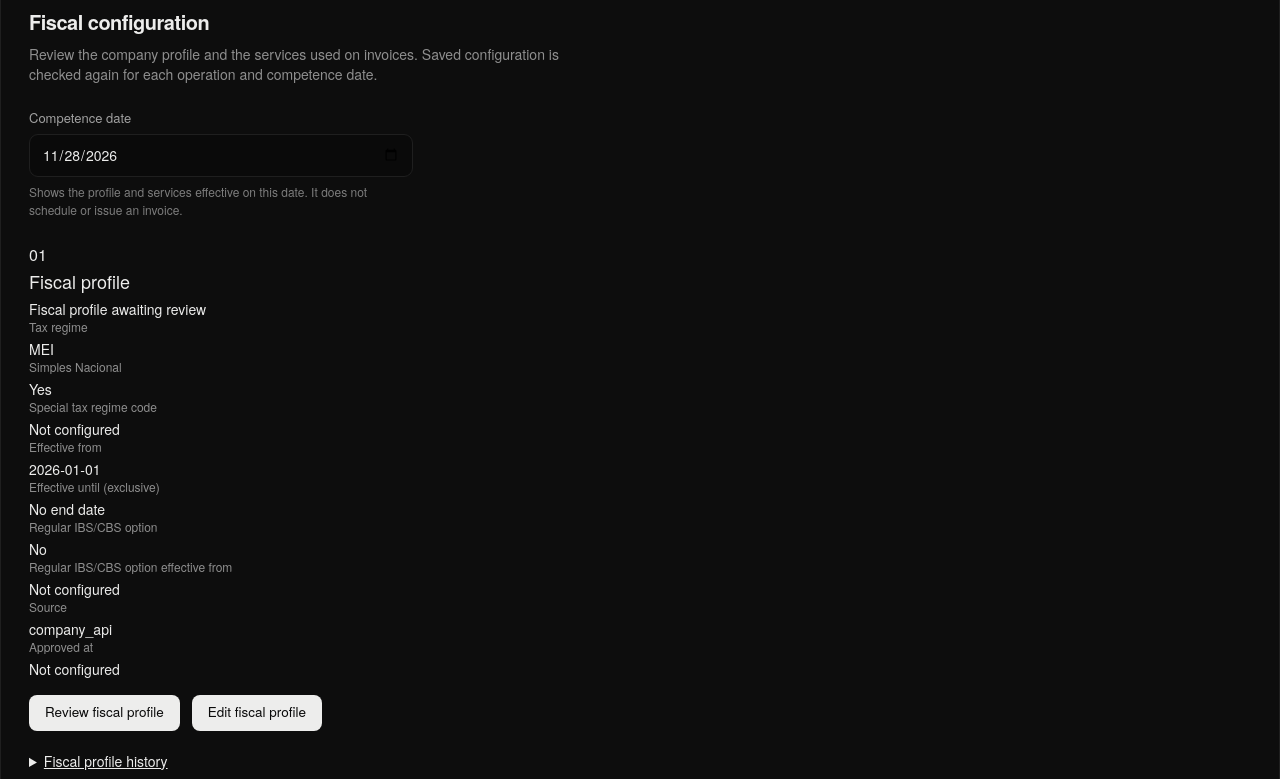
CompanyFiscalSetup › requires an explicit review before approving a saved fiscal profile
This screenshot has width=1280, height=779.
Expected: the text "Fiscal profile awaiting review" is shown, [29,298,206,318]
Click the button "Review fiscal profile" at coordinates (104, 712), box [29,694,180,730]
(page scrolled)
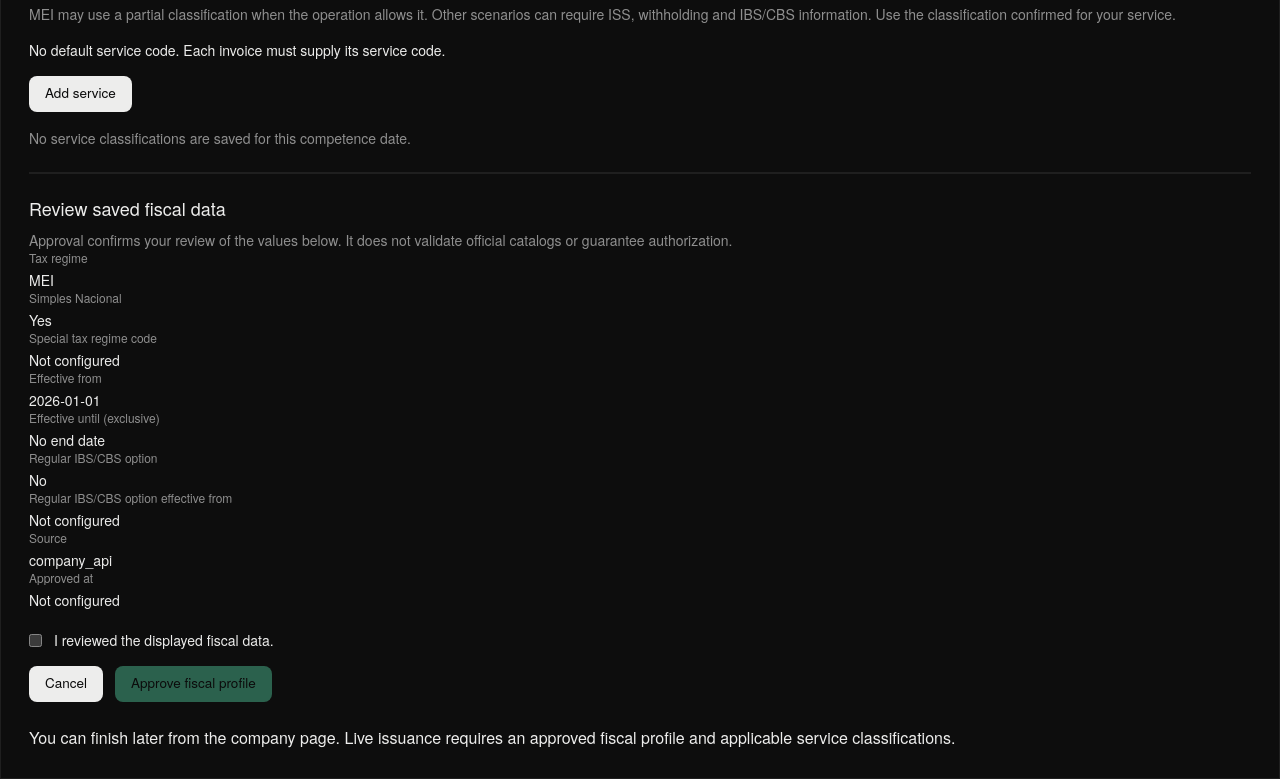
Expected: the button "Approve fiscal profile" is disabled, [115,666,272,702]
Click the checkbox labelled "I reviewed the displayed fiscal data." at coordinates (36, 640), box [29,634,42,646]
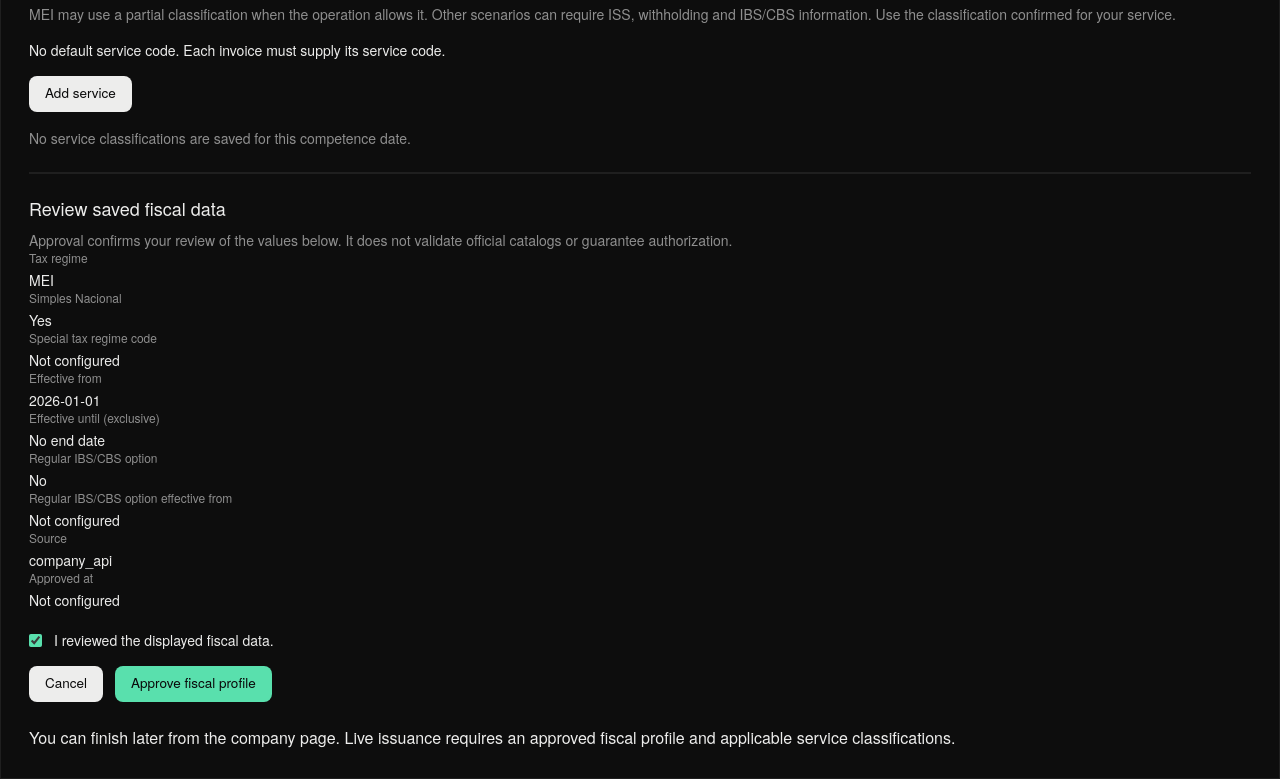
Click the button "Approve fiscal profile" at coordinates (193, 684), box [115,666,272,702]
(page scrolled)
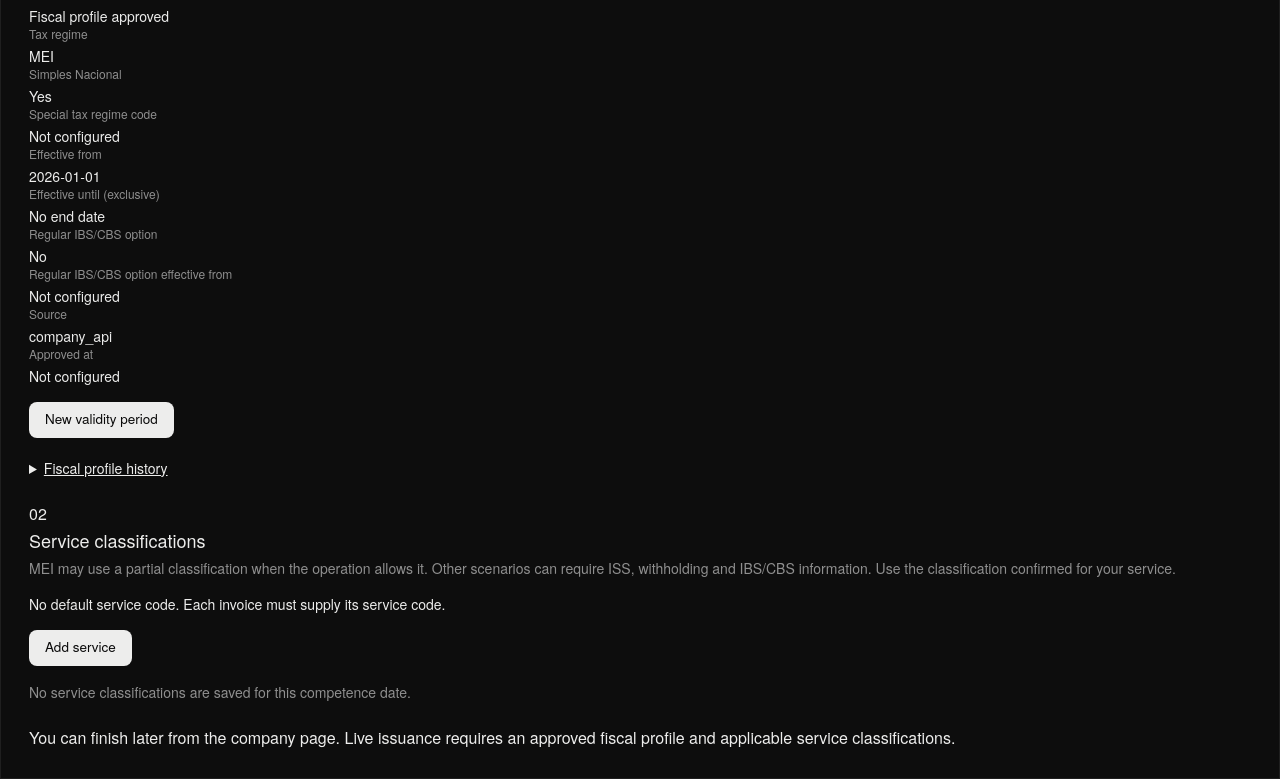
Expected: the text "Fiscal profile approved" is shown, [29,6,169,26]
